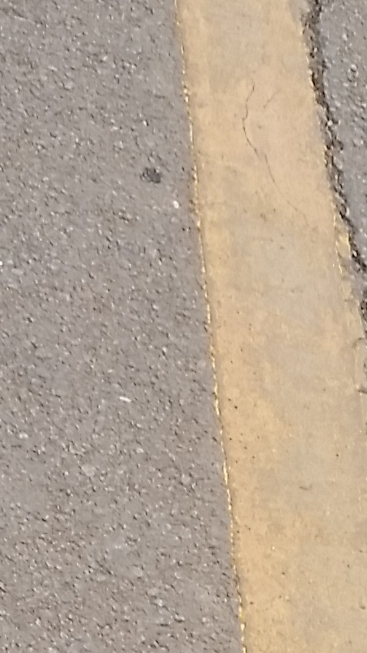A: (272, 1, 366, 324)
